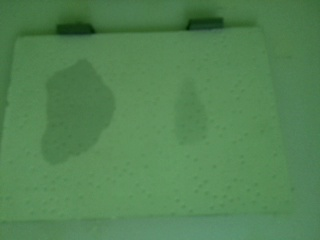Water_detected: (54, 79, 113, 157), (179, 90, 220, 143)
